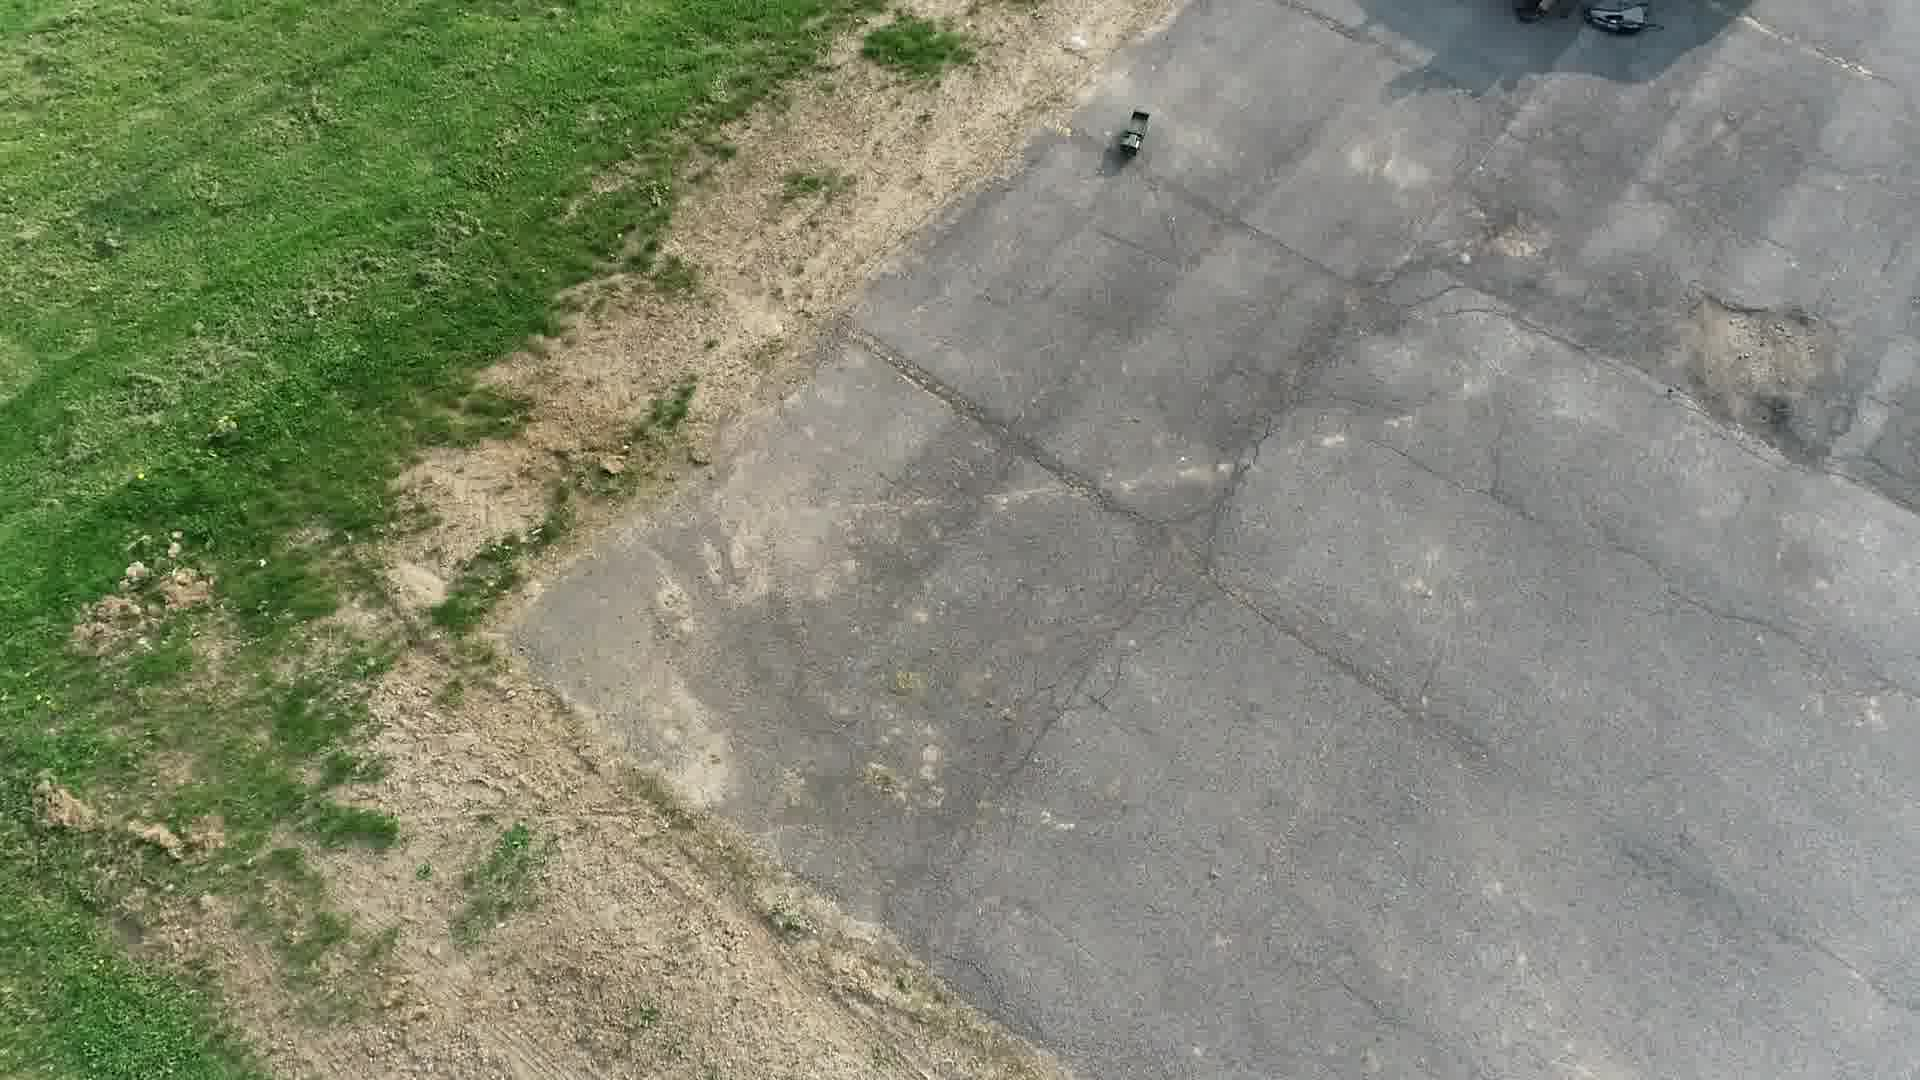transporter9: (1116, 107, 1153, 164)
